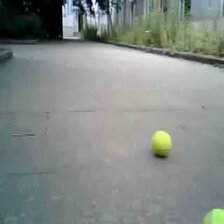tennis: (152, 130, 171, 154), (203, 208, 224, 224)
